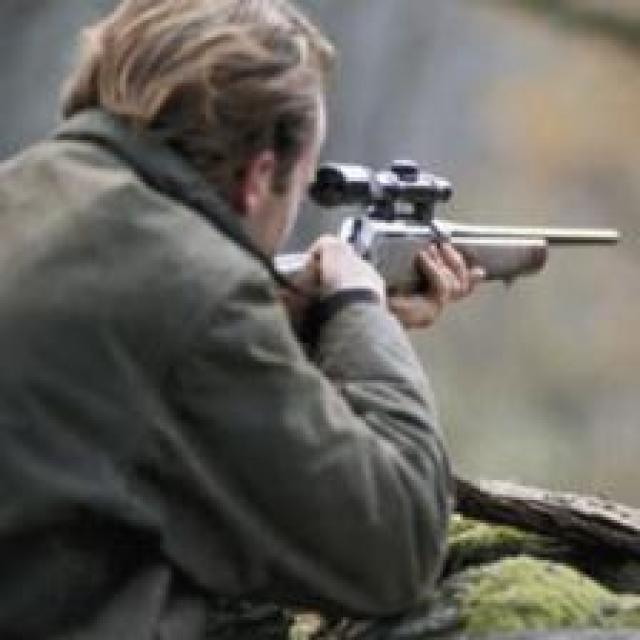Rifle: (292, 144, 632, 310)
